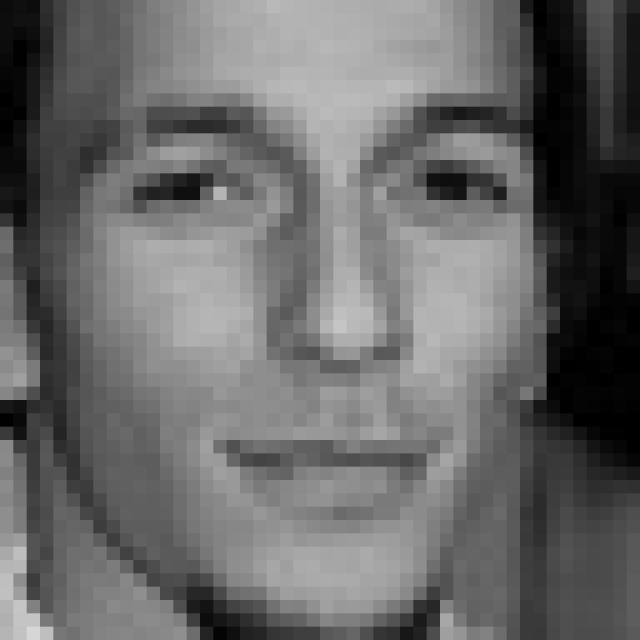neutral: (62, 88, 527, 537)
